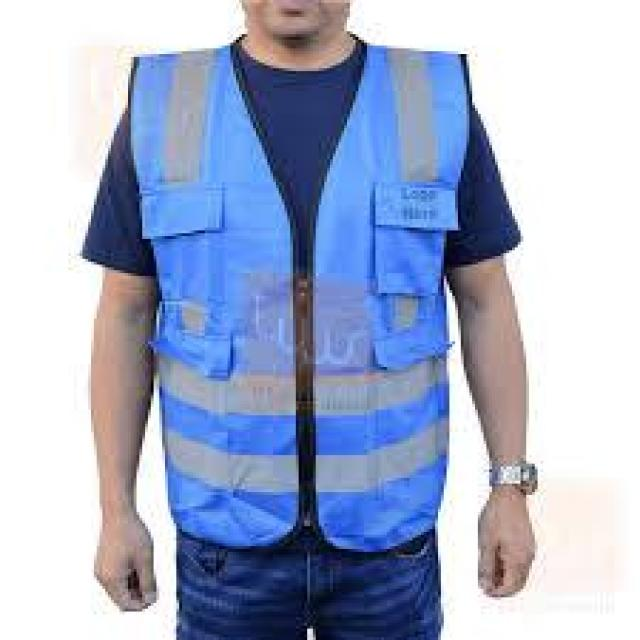vest: (125, 44, 469, 548)
